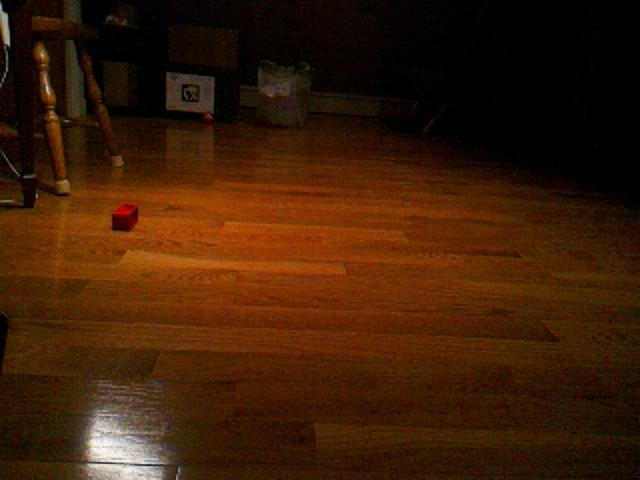red: (111, 202, 140, 232)
